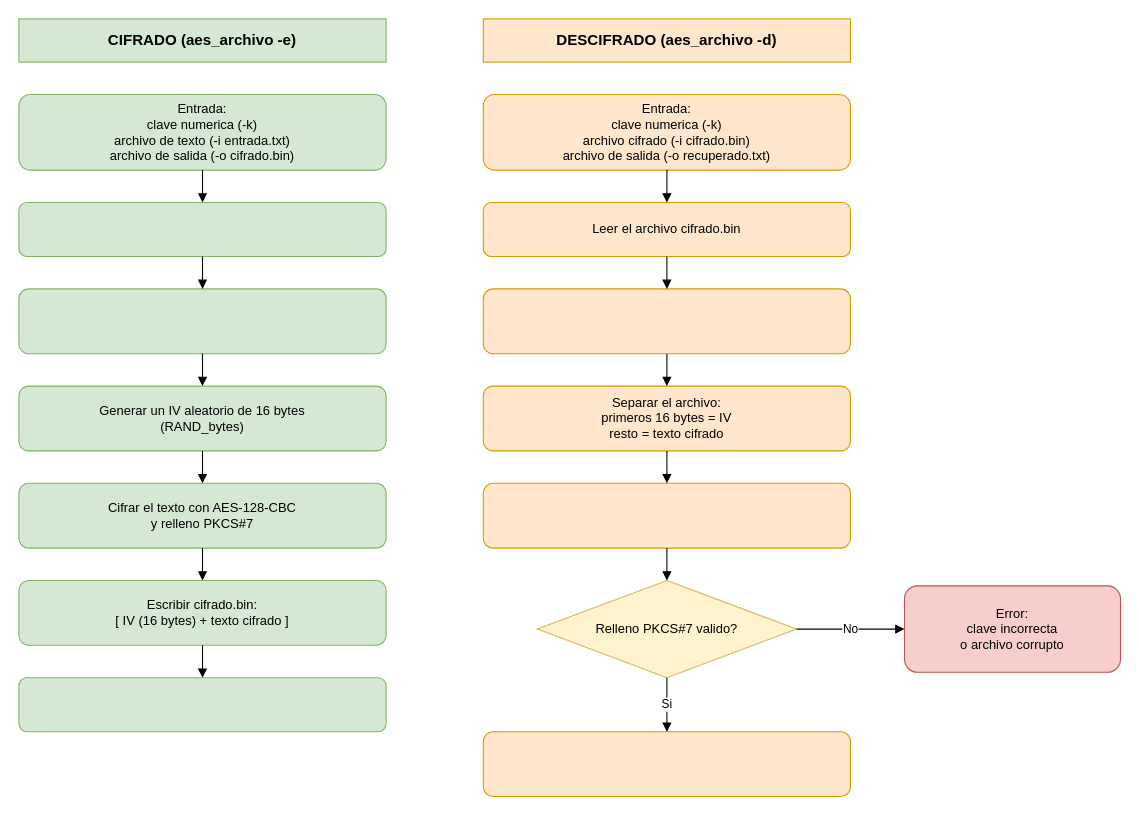
Some shapes in this 1139 by 815 pixel diagram are drawn without their labels. The box of each missing label's shape, as (x1, y1, x2, y2) in pixels:
Descifrar con AES-128-CBC usando ese IV y la clave: (482, 482, 850, 548)
Escribir recuperado.txt (texto original recuperado): (482, 731, 850, 796)
Fin: archivo cifrado listo: (18, 677, 386, 732)
Leer el texto desde entrada.txt: (18, 201, 386, 256)
make_key(): construir la clave AES de 16 bytes (128 bits) desde el entero -k: (18, 288, 386, 354)
make_key(): misma clave AES de 16 bytes (128 bits) desde el entero -k: (482, 288, 850, 354)
